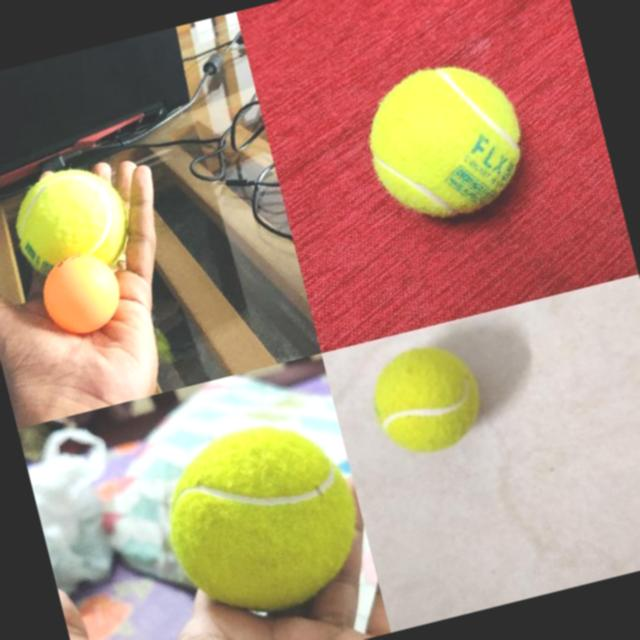tennis-ball: (147, 406, 376, 630), (352, 48, 536, 232), (362, 337, 490, 462), (5, 158, 133, 266)
